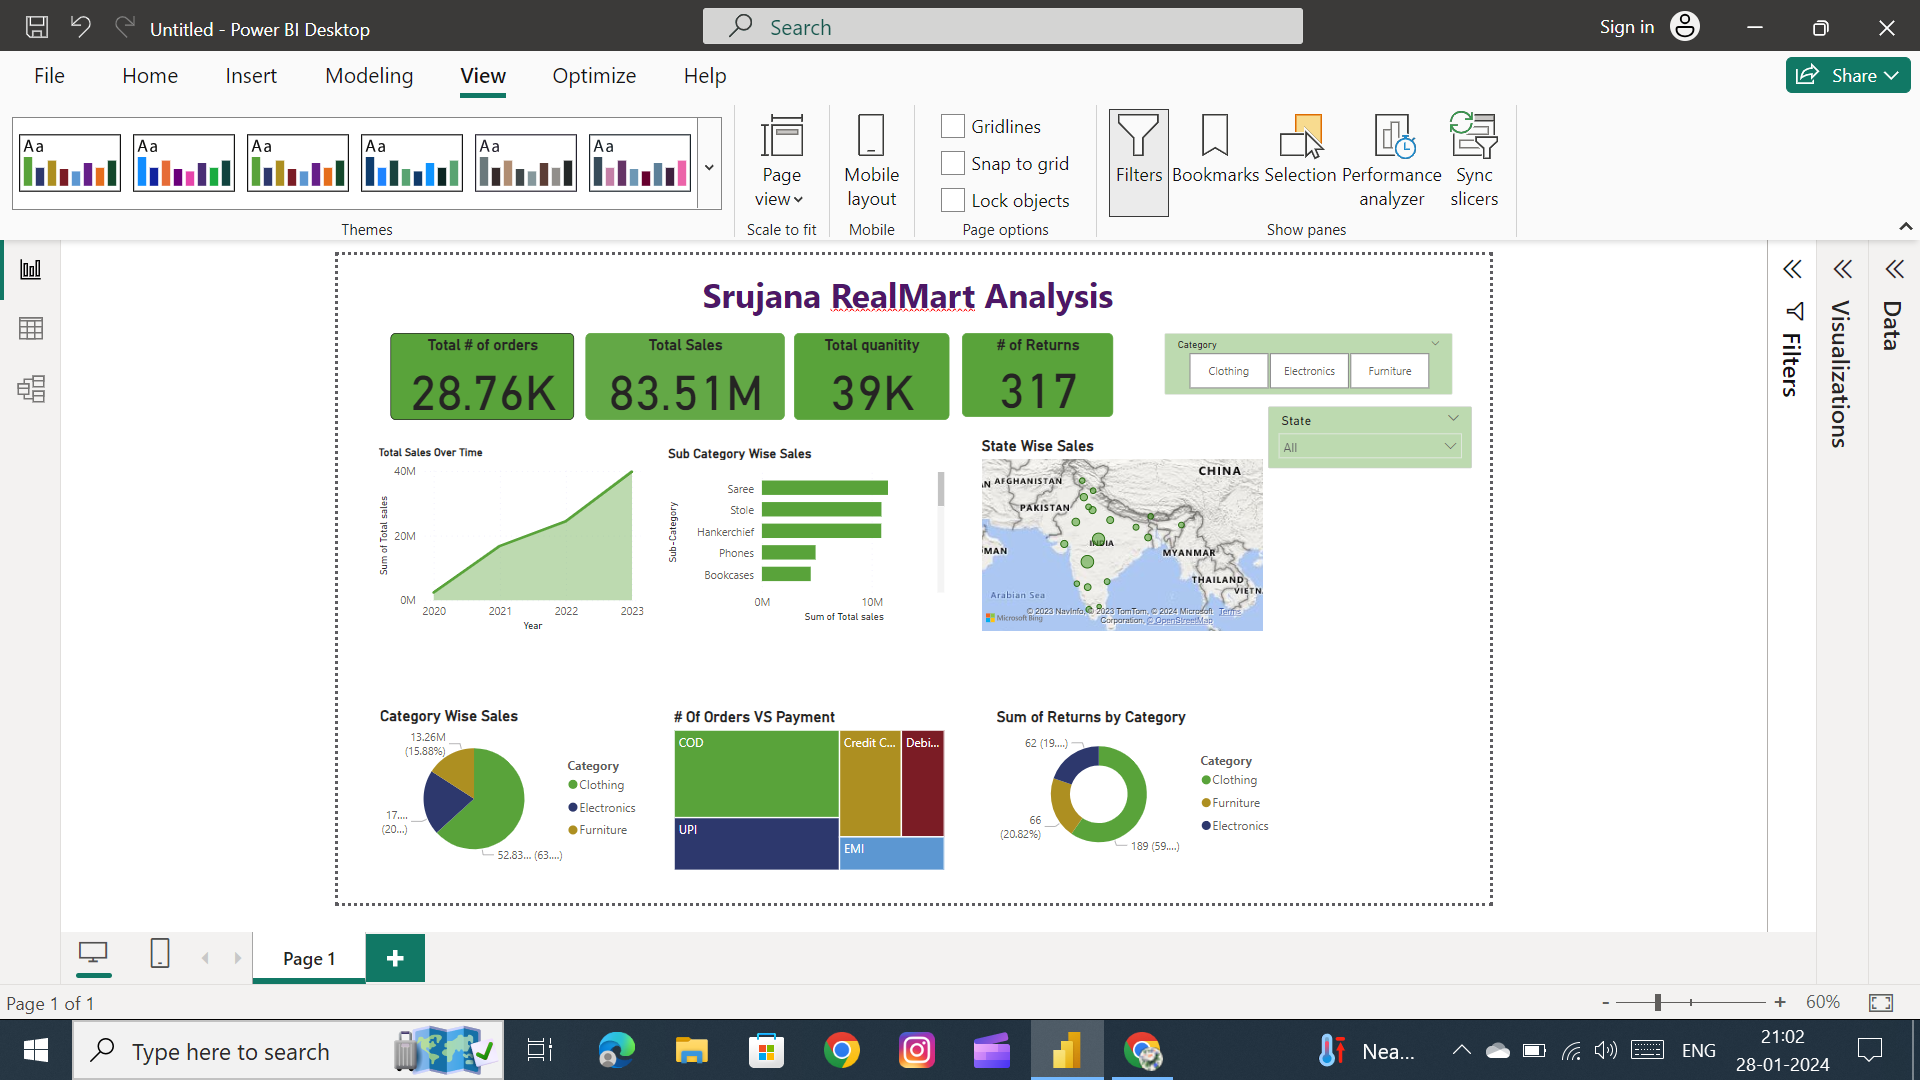

The dashboard page shown, as its layout file describes it:
{"tool":"powerbi","page":{"name":"Page 1","canvas":[1280,720],"ordinal":0},"visuals":[{"type":"card","title":"Total # of orders","fields":{"Values":["Dataset.Order ID"]},"box":[58.5,86.2,204.3,96.8],"z":0},{"type":"card","title":"Total Sales","fields":{"Values":["Dataset.Total sales"]},"box":[274.5,86.2,221.3,96.8],"z":1000},{"type":"card","title":"Total quanitity","fields":{"Values":["Dataset.Net quantity"]},"box":[506.4,86.2,172.3,96.8],"z":2000},{"type":"card","title":"# of Returns","fields":{"Values":["Dataset.Returns"]},"box":[693.6,86.2,168.1,93.6],"z":3000},{"type":"areaChart","title":"Total Sales Over Time","fields":{"Category":["Dataset.Date.Variation.Date Hierarchy.Year","Dataset.Date.Variation.Date Hierarchy.Month"],"Y":["Dataset.Total sales"]},"box":[39.4,211.7,304.3,210.6],"z":4000},{"type":"pieChart","title":"Category Wise Sales","fields":{"Category":["Dataset.Category"],"Y":["Dataset.Total sales"]},"box":[41.7,501.7,303.3,185],"z":5000},{"type":"clusteredBarChart","title":"Sub Category Wise Sales","fields":{"Category":["Dataset.Sub-Category"],"Y":["Dataset.Total sales"]},"box":[361.7,211.7,317,201.1],"z":6000},{"type":"treemap","title":"# Of Orders VS Payment ","fields":{"Values":["Dataset.Order ID"],"Group":["Dataset.PaymentMode"]},"box":[368.3,503.3,310,185],"z":7000},{"type":"map","title":"State Wise Sales","fields":{"Category":["Dataset.State"],"Size":["Dataset.Total sales"]},"box":[709.6,201.1,323.4,221.3],"z":8000},{"type":"textbox","box":[400,13.3,520,60],"z":9000},{"type":"slicer","fields":{"Values":["Dataset.Category"]},"box":[918.3,86.7,320,68.3],"z":10000},{"type":"slicer","fields":{"Values":["Dataset.State"]},"box":[1033.3,168.3,226.7,68.3],"z":11000},{"type":"donutChart","fields":{"Category":["Dataset.Category"],"Y":["Dataset.Returns"]},"box":[726.7,503.3,321.7,171.7],"z":12000}]}

Visuals, with their boxes on the page's 1280x720 design canvas (x1, y1, x2, y2). These are canvas units, not pixel positions in the 1920x1080 screenshot, which may show the page scaled, cropped or inside an application window:
"Total # of orders" card: 58 86 263 183
"Total Sales" card: 274 86 496 183
"Total quanitity" card: 506 86 679 183
"# of Returns" card: 694 86 862 180
"Total Sales Over Time" areaChart: 39 212 344 422
"Category Wise Sales" pieChart: 42 502 345 687
"Sub Category Wise Sales" clusteredBarChart: 362 212 679 413
"# Of Orders VS Payment " treemap: 368 503 678 688
"State Wise Sales" map: 710 201 1033 422
textbox: 400 13 920 73
slicer - Dataset.Category: 918 87 1238 155
slicer - Dataset.State: 1033 168 1260 237
donutChart - Dataset.Category x Dataset.Returns: 727 503 1048 675
